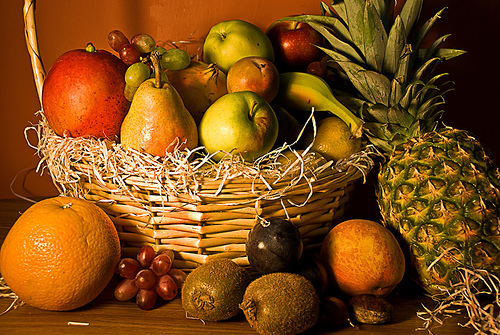pineapple: (284, 0, 498, 334)
